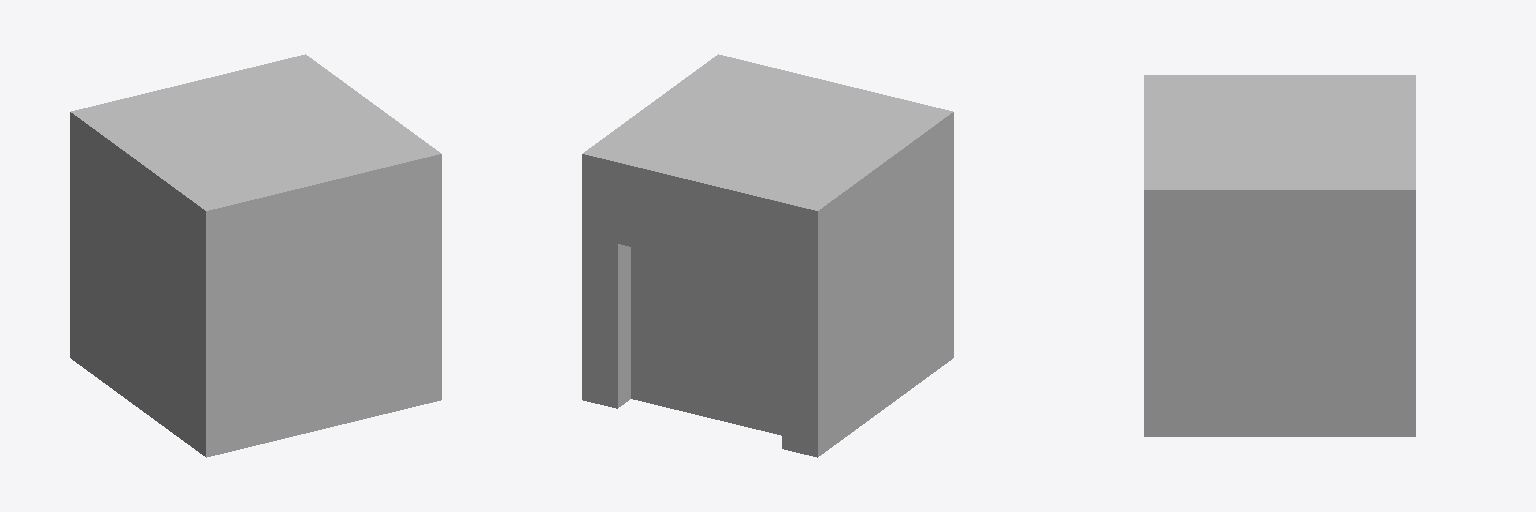
Rendered from wall-a-garage.obj.
The picture shows the model from 3 angles: view 1: azimuth 30°, elevation 25°; view 2: azimuth 150°, elevation 25°; view 3: azimuth 270°, elevation 25°; orthographic projection.
Visible parts, largest first — view 1: wall-a-garage; view 2: wall-a-garage; view 3: wall-a-garage.
Boxes of the visible parts, box(x1,y1,x2,y2) form: wall-a-garage: box(70, 54, 441, 457); wall-a-garage: box(582, 54, 953, 457); wall-a-garage: box(1144, 75, 1415, 436).
Size of the model in its own units: 1 by 1 by 1.